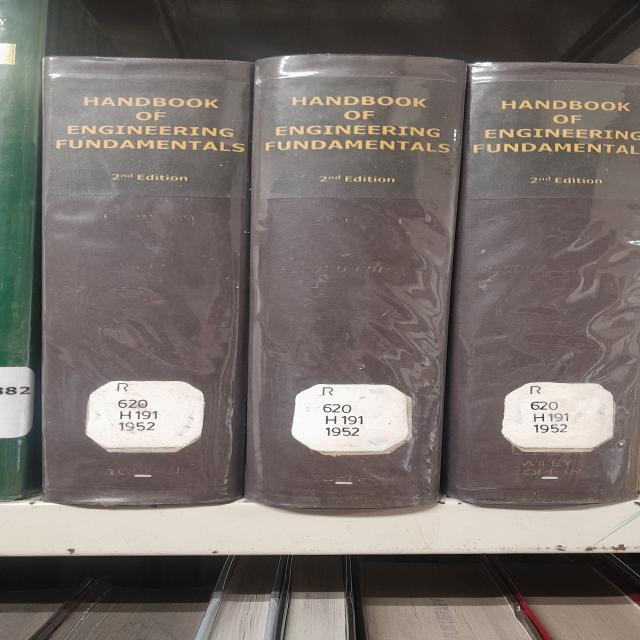book: (244, 55, 466, 509), (42, 58, 254, 506), (443, 62, 640, 507)
